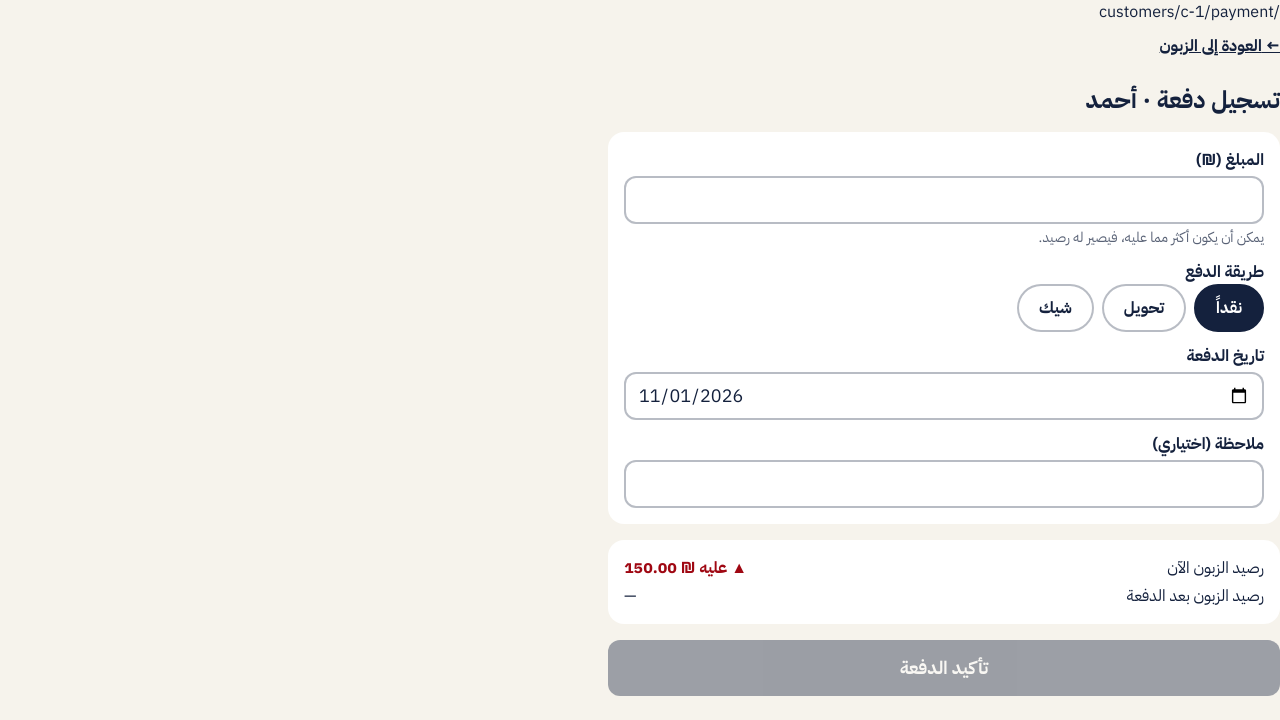
Scenario: payment screen › shows the balance before and after, asks to confirm, then saves offline and queues it
The width and height of the screenshot is (1280, 720).
Expected: the button "تأكيد الدفعة" is disabled, [608,640,1279,696]
Step 1. Type "40" into the field labelled "المبلغ (₪)" → (944, 200), box [624,176,1264,224]
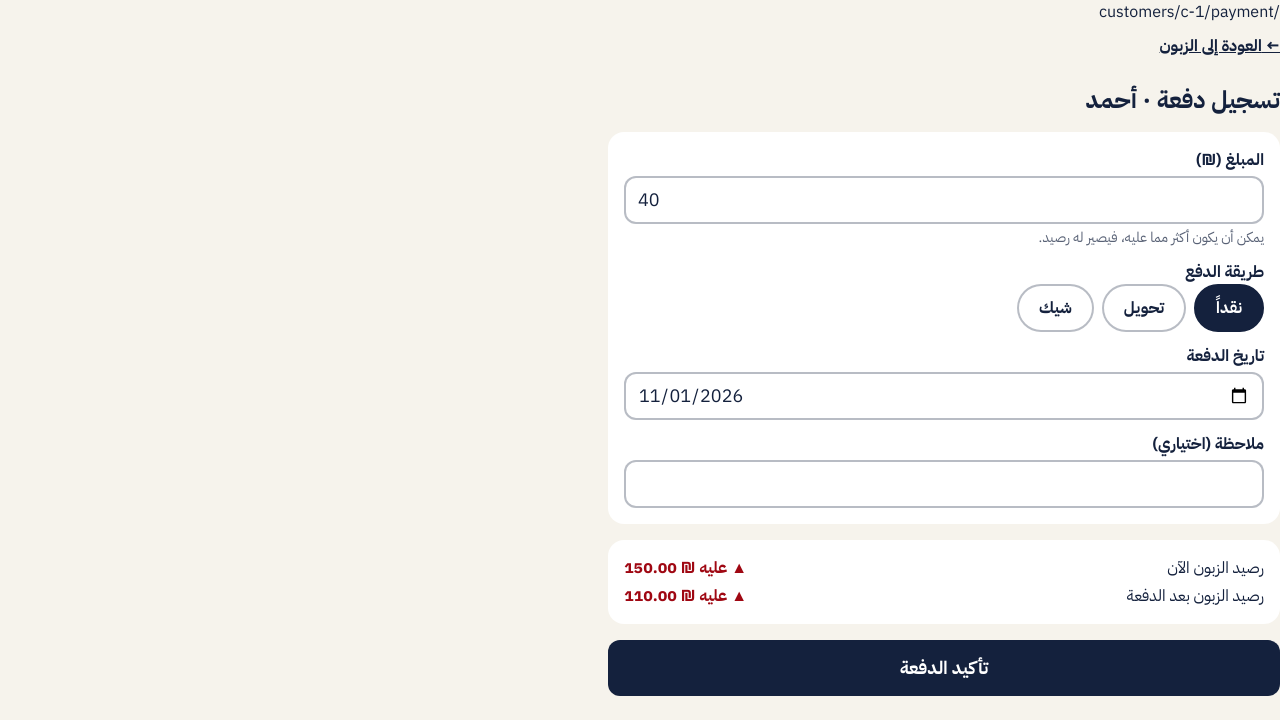
Expected: the text "عليه ₪ 110.00" is shown, [624,584,727,608]
Step 2. Click the button "تأكيد الدفعة" → (944, 668), box [608,640,1279,696]
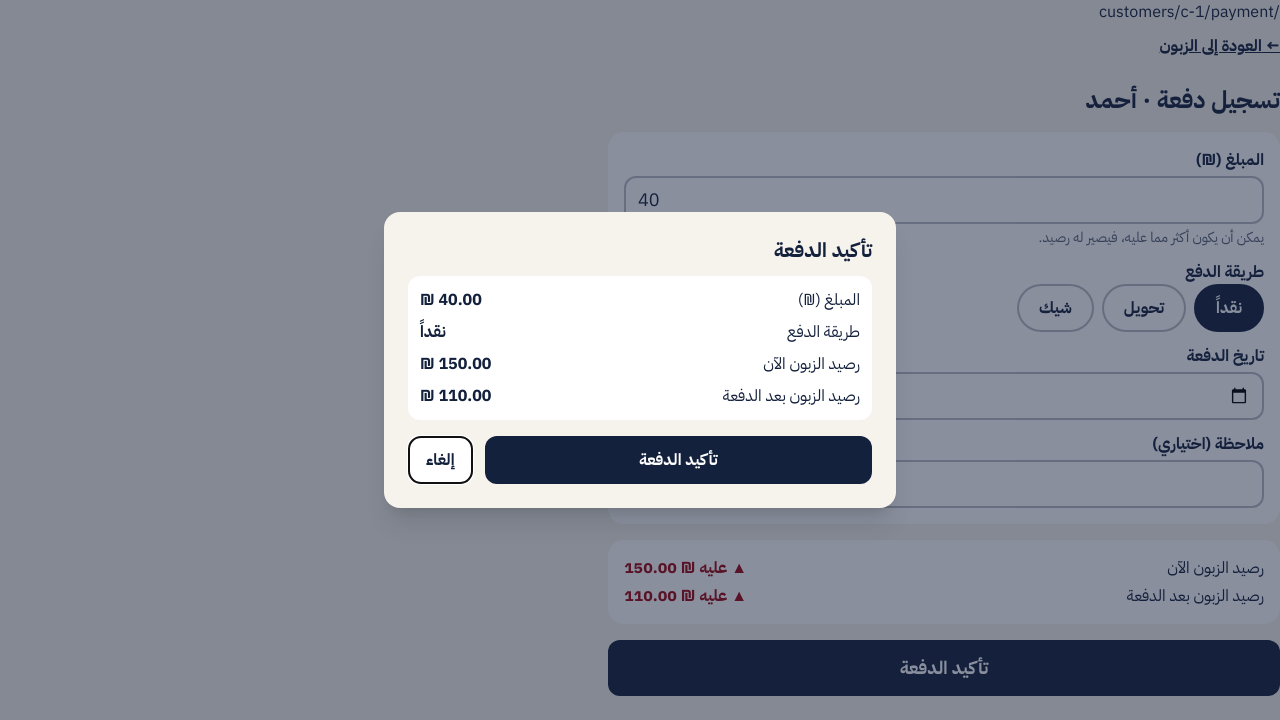
Expected: the text "₪ 40.00" is shown, [420,288,482,312]
Step 3. Click the button "تأكيد الدفعة" below "₪ 40.00" → (678, 460), box [484,436,872,484]
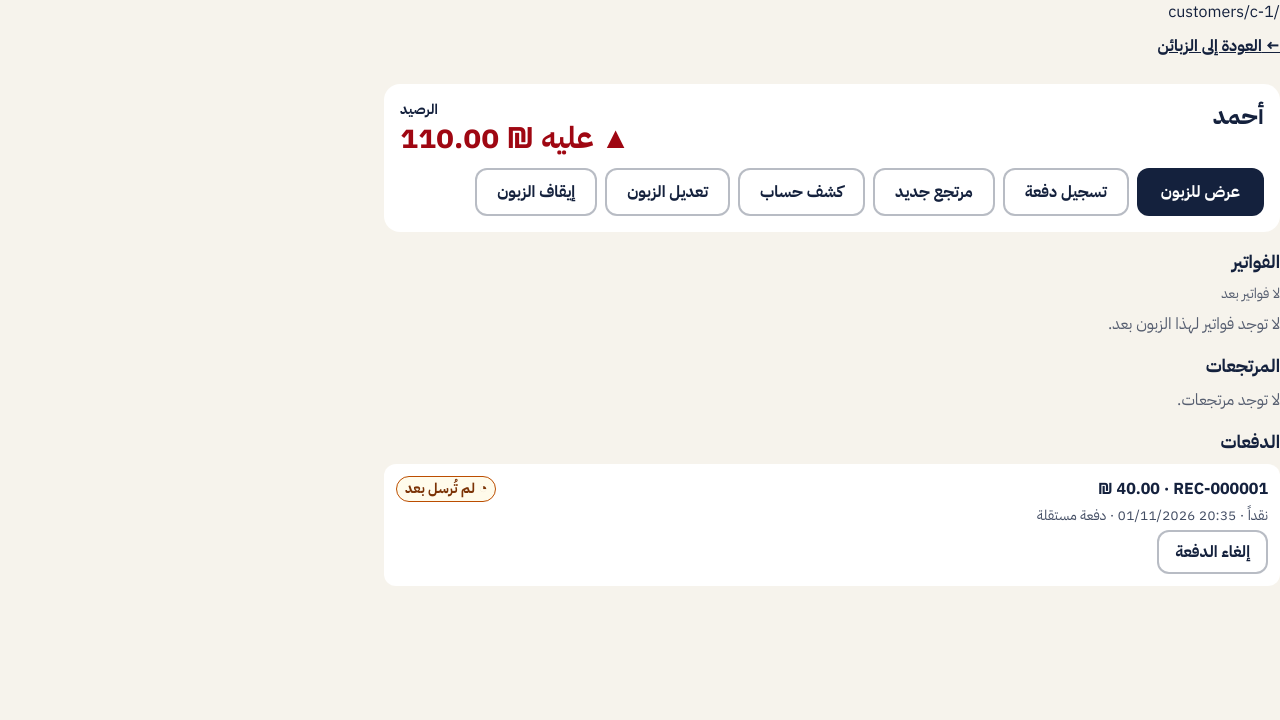
Expected: the text "عليه ₪ 110.00" is shown, [400,115,594,160]
Expected: the text with test id "where" reads "/customers/c-1", [1168,0,1279,24]
Expected: the text "لم تُرسل بعد" is shown, [405,478,475,499]
